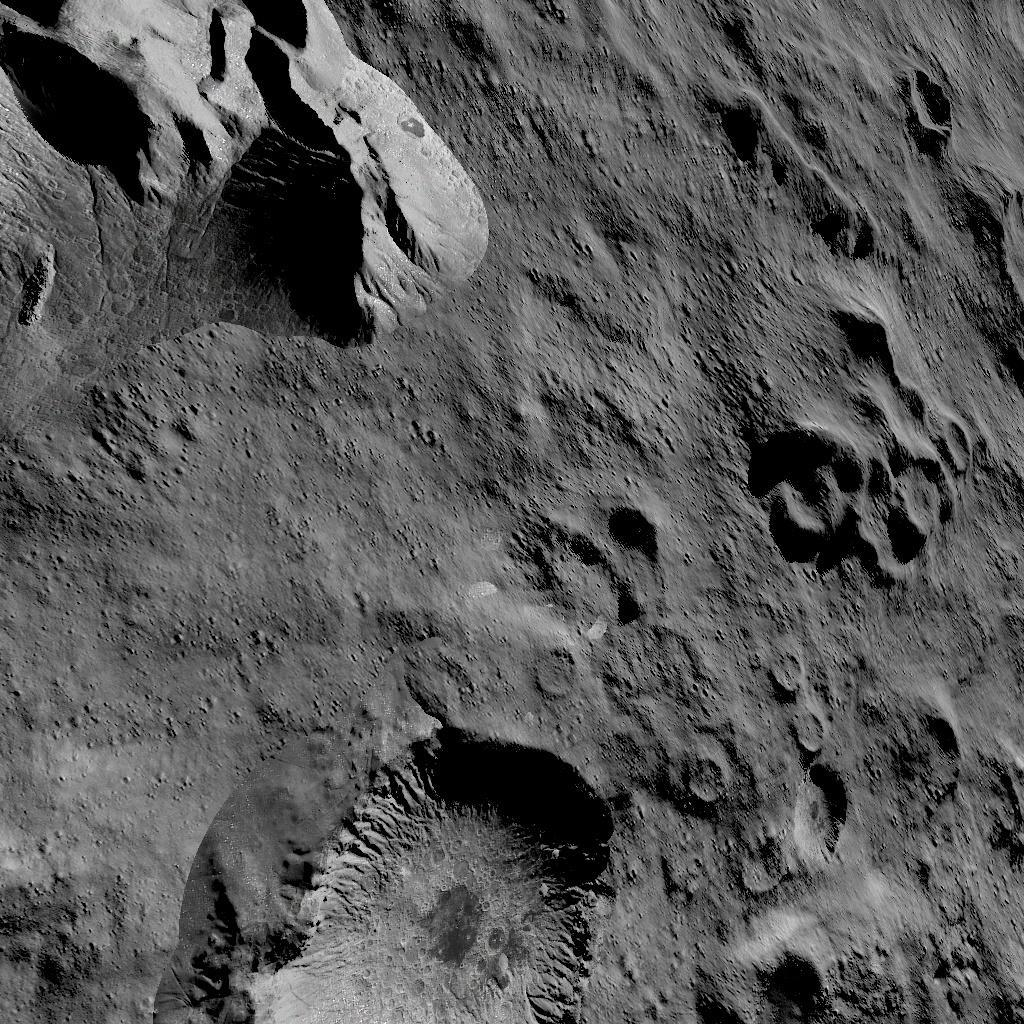Boulders: (0, 0, 503, 489)
Crater: (211, 720, 660, 1024), (762, 401, 995, 601), (541, 511, 695, 628), (778, 771, 869, 884), (740, 951, 874, 1024), (775, 648, 850, 753), (908, 52, 978, 146), (908, 713, 980, 804), (690, 755, 750, 812), (535, 648, 594, 702)
Plan surface: (0, 500, 514, 706), (522, 0, 702, 504), (0, 714, 197, 1024)
